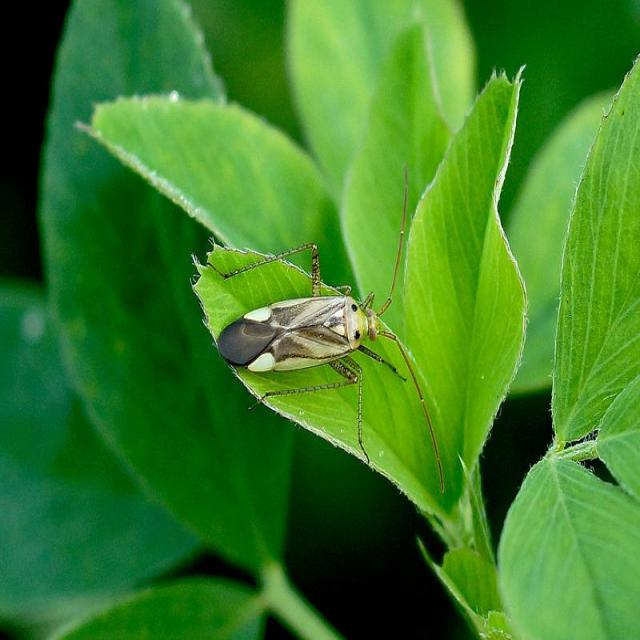Miridae-Adult-: (202, 164, 448, 492)
